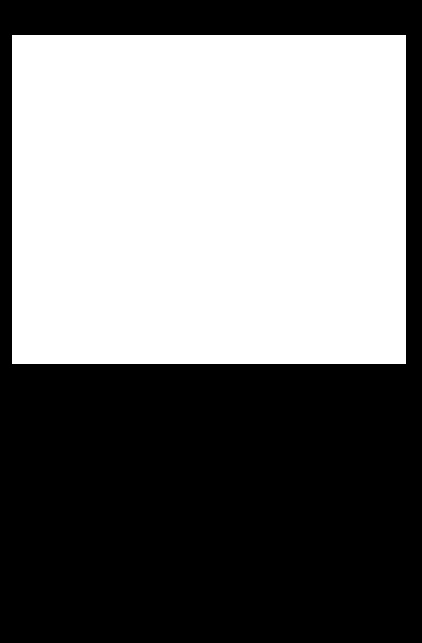table: (12, 35, 405, 363)
